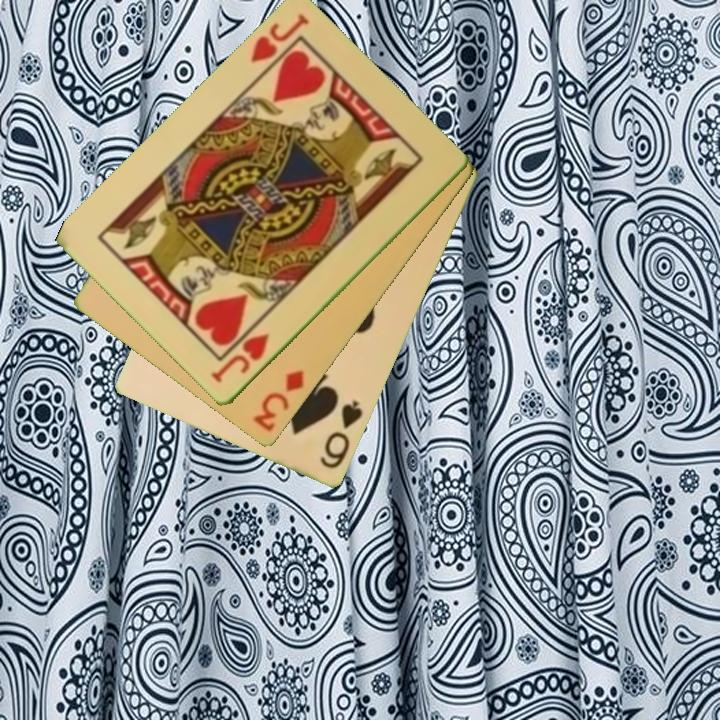3d: (249, 367, 308, 436)
6s: (317, 397, 366, 473)
Jh: (246, 10, 312, 67), (207, 330, 272, 387)
